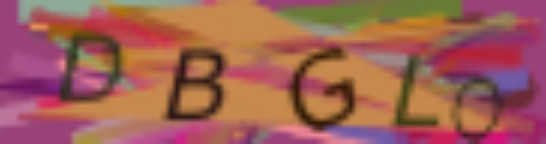B: (159, 45, 237, 122)
D: (53, 32, 127, 106)
G: (286, 43, 360, 135)
L: (387, 47, 449, 132)
O: (454, 74, 507, 144)
